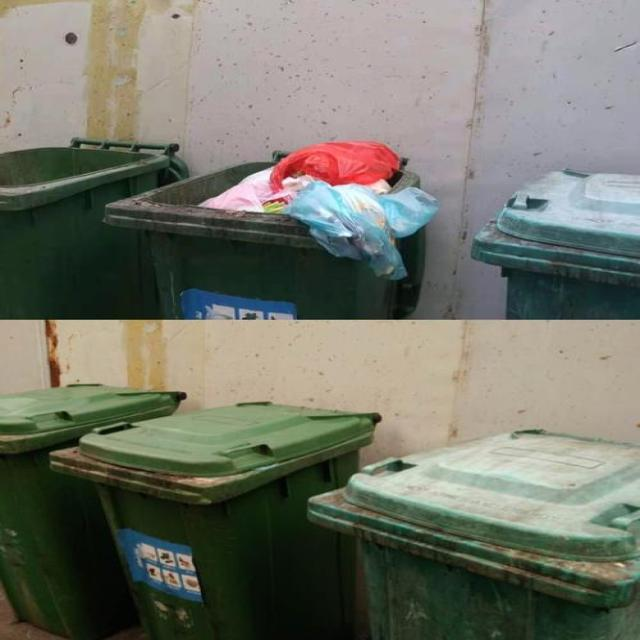garbage_bin: (51, 402, 379, 639), (304, 428, 638, 639), (0, 383, 186, 639), (0, 135, 189, 316)
overflow: (101, 139, 435, 318)
